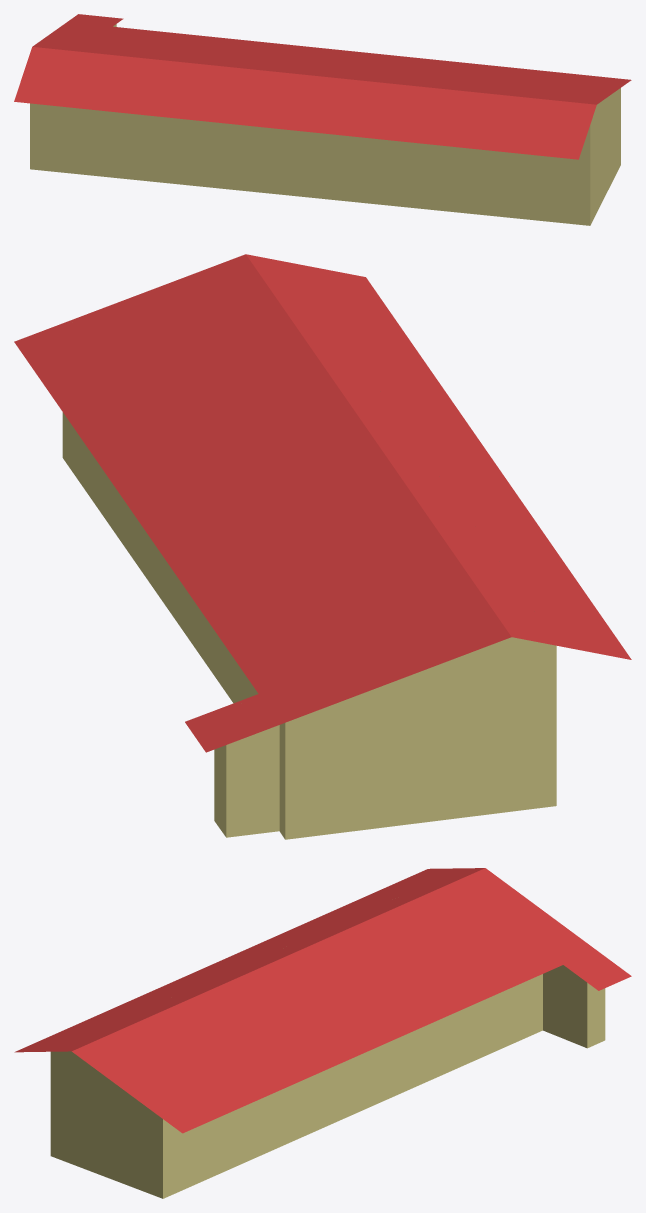
3 renders of one model, top to bottom at view 1: azimuth 30°, elevation 25°; view 2: azimuth 150°, elevation 25°; view 3: azimuth 270°, elevation 25°, orthographic. The views are drawn at different scales.
Bounding box in the file's own units: 52.03 × 54.05 × 10.92.
